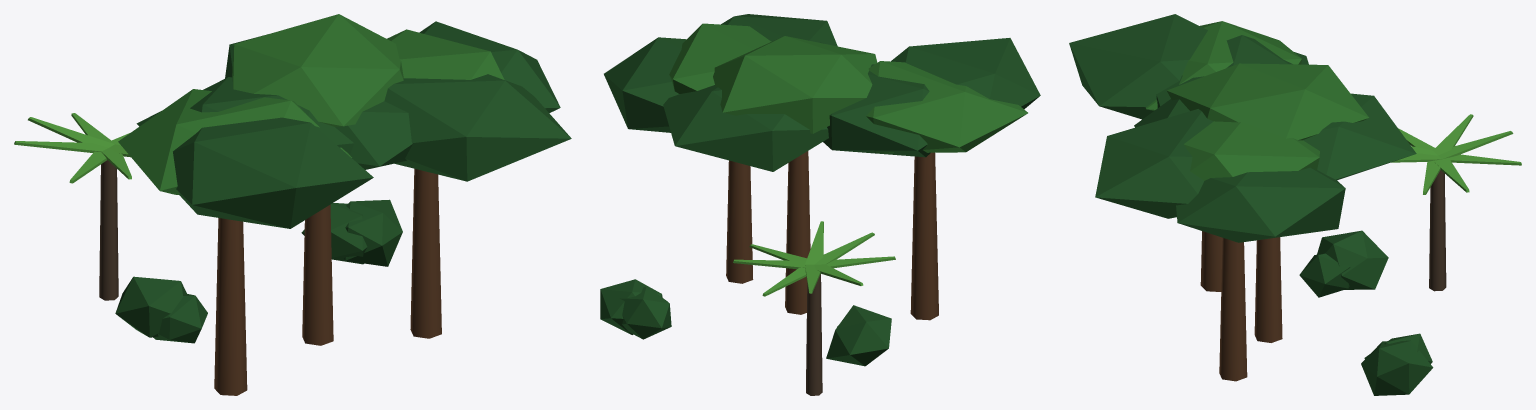
The model's file is sawyer_jungle_thicket_b.glb.
3 renders of one model, left to right at view 1: azimuth 30°, elevation 25°; view 2: azimuth 150°, elevation 25°; view 3: azimuth 270°, elevation 25°, orthographic. The views are drawn at different scales.
Parts seen in each view (by area): view 1: broadleaf_0_crown2, broadleaf_2_crown2, broadleaf_1_crown0, broadleaf_0_crown0, broadleaf_0_trunk, broadleaf_2_trunk, broadleaf_1_trunk, broadleaf_2_crown0, broadleaf_1_crown2, broadleaf_2_crown1, jbush_3_leaves1, jbush_4_leaves1 (+6 smaller); view 2: broadleaf_1_crown0, broadleaf_1_crown1, broadleaf_0_crown0, broadleaf_0_crown2, broadleaf_0_crown1, broadleaf_2_crown1, broadleaf_0_trunk, broadleaf_2_crown0, broadleaf_1_trunk, broadleaf_2_trunk, jbush_3_leaves1, broadleaf_2_crown2 (+8 smaller); view 3: broadleaf_1_crown0, broadleaf_2_crown1, broadleaf_0_crown2, broadleaf_2_crown2, broadleaf_2_crown0, broadleaf_1_crown1, broadleaf_2_trunk, jbush_4_leaves1, broadleaf_0_crown0, broadleaf_1_trunk, jbush_3_leaves1, treefern_5_trunk (+9 smaller).
Part boxes in pixels (x1,y1,x2,y2): broadleaf_0_crown2: (173, 117, 373, 228); broadleaf_2_crown2: (384, 74, 571, 181); broadleaf_1_crown0: (232, 14, 403, 126); broadleaf_0_crown0: (118, 89, 351, 194); broadleaf_0_trunk: (214, 218, 247, 395); broadleaf_2_trunk: (410, 168, 441, 338); broadleaf_1_trunk: (302, 204, 333, 345); broadleaf_2_crown0: (387, 29, 504, 79); broadleaf_1_crown2: (335, 101, 412, 169); broadleaf_2_crown1: (419, 21, 560, 112); jbush_3_leaves1: (115, 276, 186, 337); jbush_4_leaves1: (344, 199, 402, 266); broadleaf_1_crown0: (713, 36, 877, 133); broadleaf_1_crown1: (663, 85, 828, 171); broadleaf_0_crown0: (866, 61, 1027, 153); broadleaf_0_crown2: (891, 38, 1040, 109); broadleaf_0_crown1: (823, 64, 930, 157); broadleaf_2_crown1: (604, 37, 686, 132); broadleaf_0_trunk: (910, 152, 938, 320); broadleaf_2_crown0: (669, 23, 771, 93); broadleaf_1_trunk: (785, 151, 810, 314); broadleaf_2_trunk: (726, 160, 753, 283); jbush_3_leaves1: (826, 305, 891, 366); broadleaf_2_crown2: (721, 14, 837, 46); broadleaf_1_crown0: (1166, 63, 1368, 140); broadleaf_2_crown1: (1176, 167, 1345, 242); broadleaf_0_crown2: (1069, 14, 1207, 119); broadleaf_2_crown2: (1095, 109, 1213, 218); broadleaf_2_crown0: (1184, 121, 1319, 180); broadleaf_1_crown1: (1303, 93, 1416, 179); broadleaf_2_trunk: (1219, 238, 1247, 381); jbush_4_leaves1: (1361, 340, 1433, 395); broadleaf_0_crown0: (1146, 21, 1301, 110); broadleaf_1_trunk: (1254, 237, 1282, 342); jbush_3_leaves1: (1317, 230, 1388, 289); treefern_5_trunk: (1429, 170, 1446, 291).
Size of the model in its own units: 5.14 by 3.41 by 5.21.
